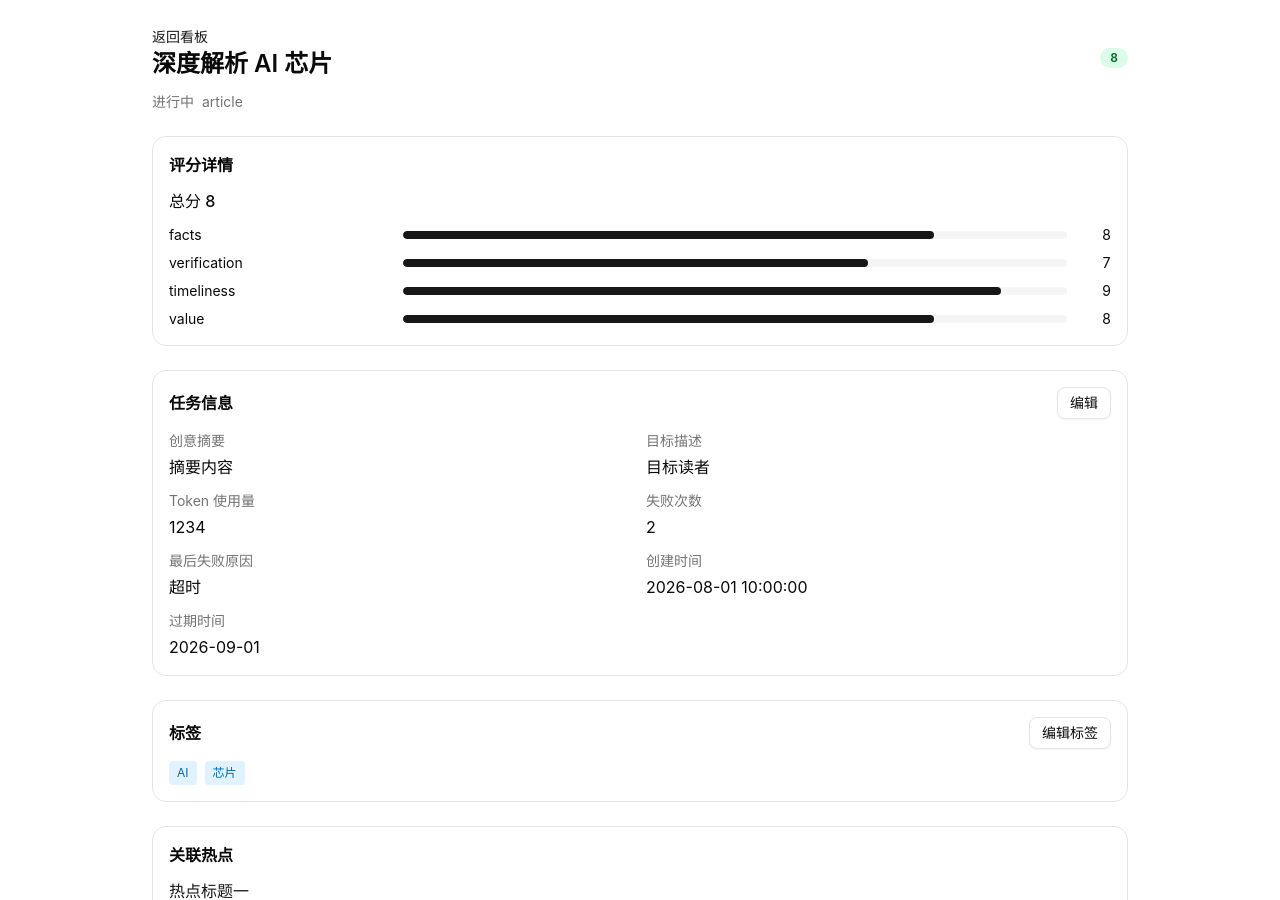
Scenario: TaskDetailPage 信息编辑 › 保存成功后退出编辑模式并重新获取任务
Expected: the heading "深度解析 AI 芯片" is shown, [152,48,332,80]
Click the button "编辑".
click(1084, 403)  # box [1057,387,1111,419]
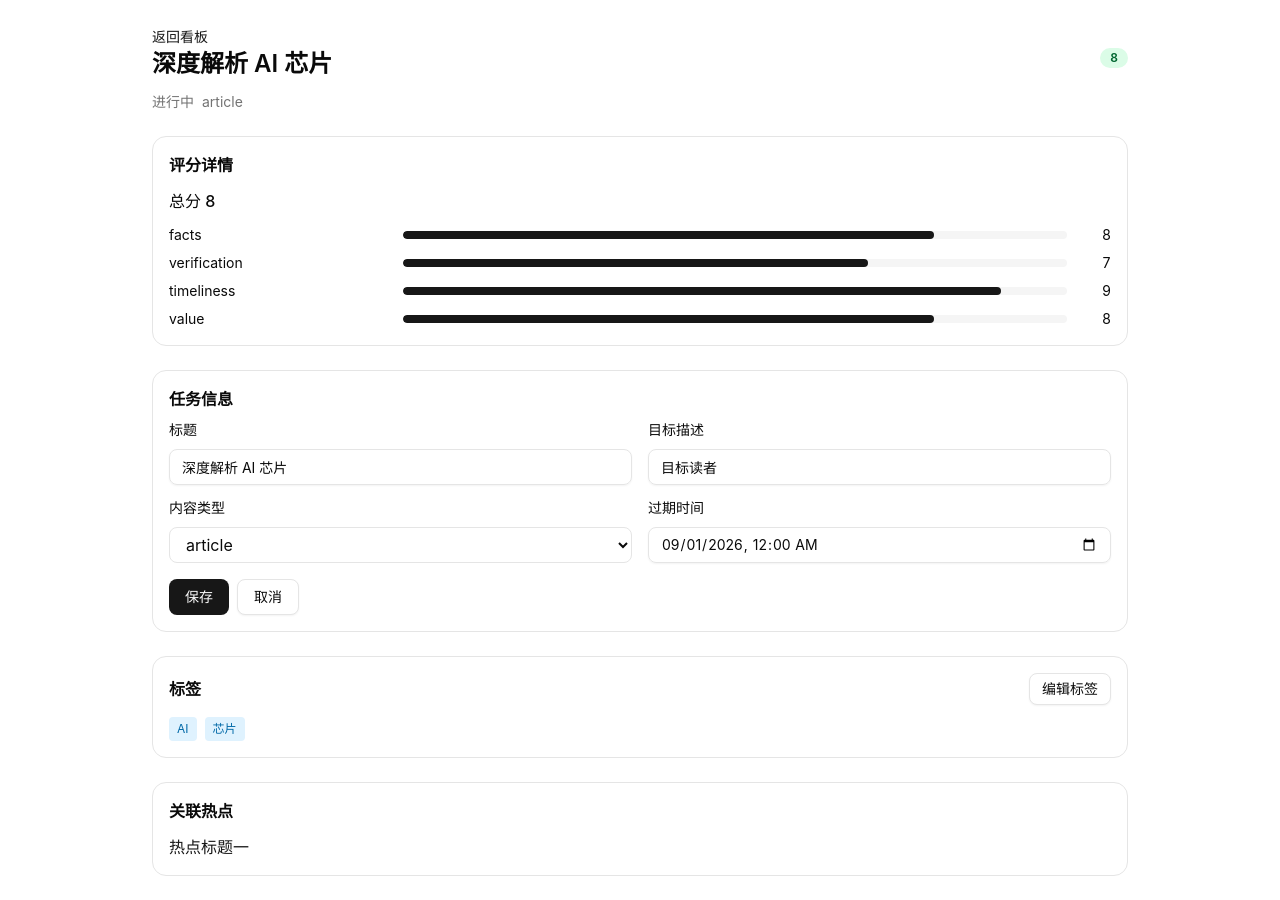
Replace the text in the field labelled "标题" with "新标题" at {"x": 400, "y": 467}, box [169,449,632,485]
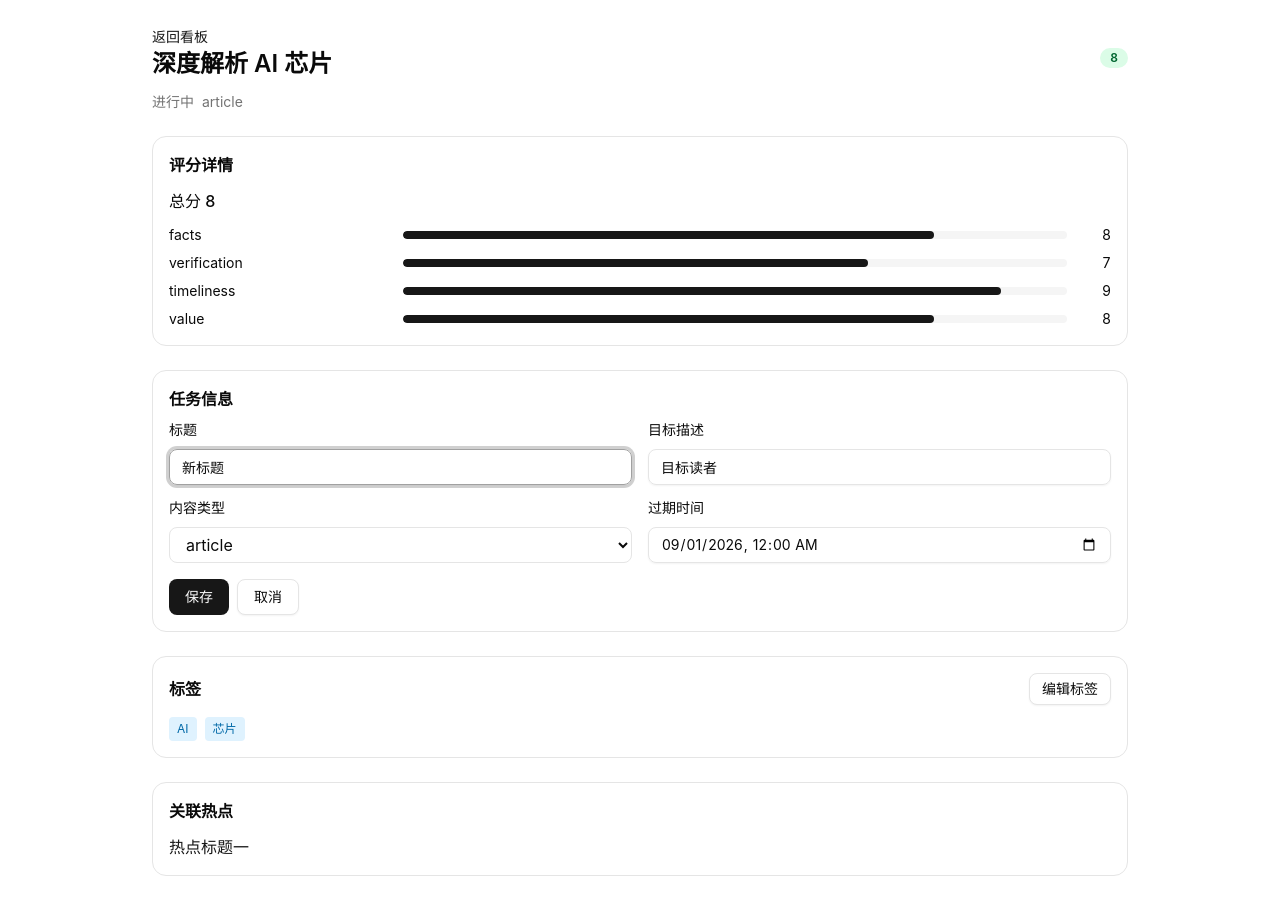
Click the button "保存".
click(199, 597)  # box [169,579,229,615]
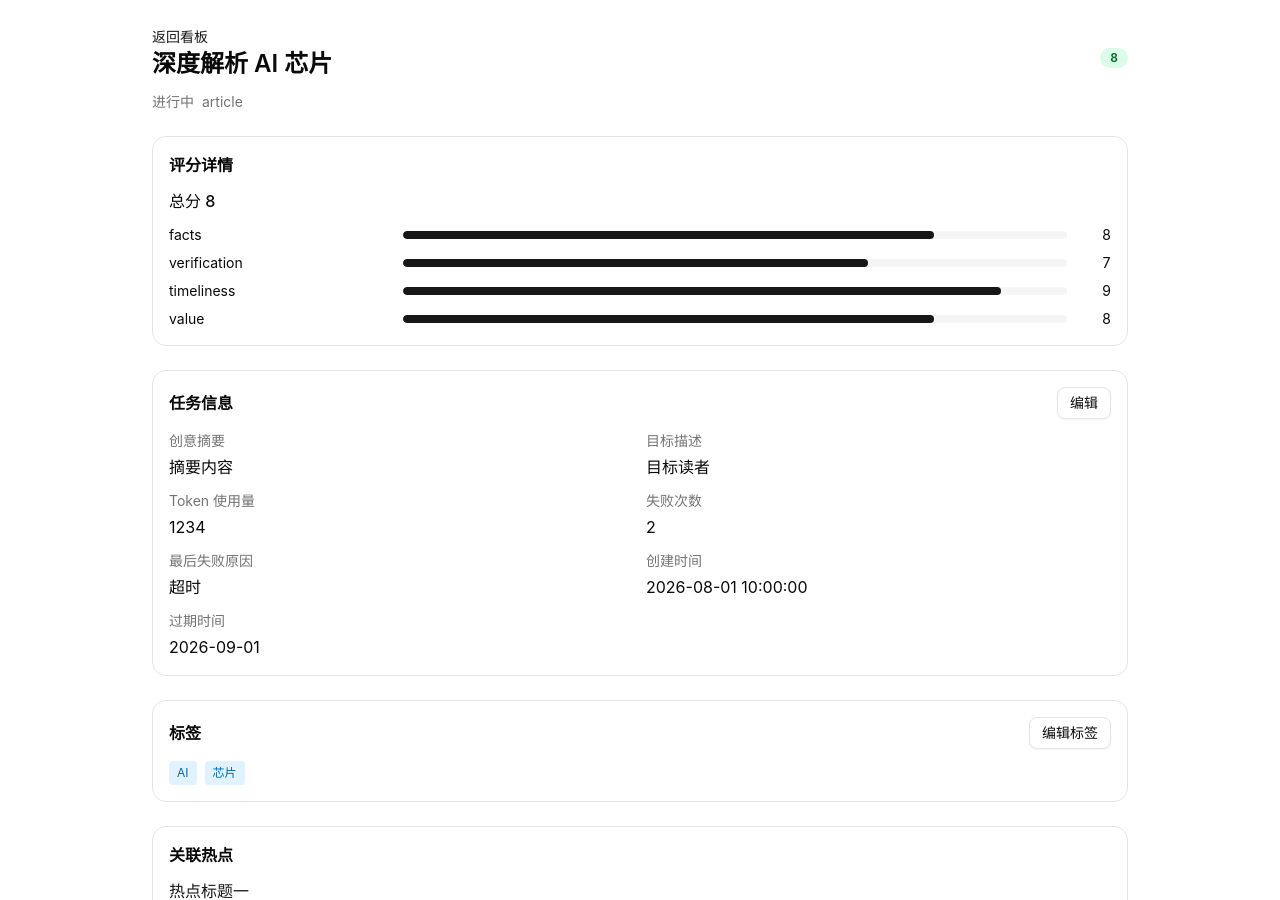
Expected: the text "目标读者" is shown, [646,457,710,477]
